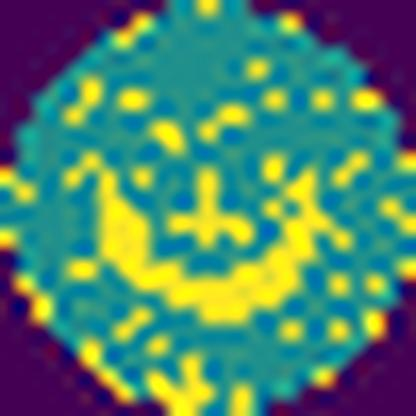Donut: (64, 87, 336, 332)
